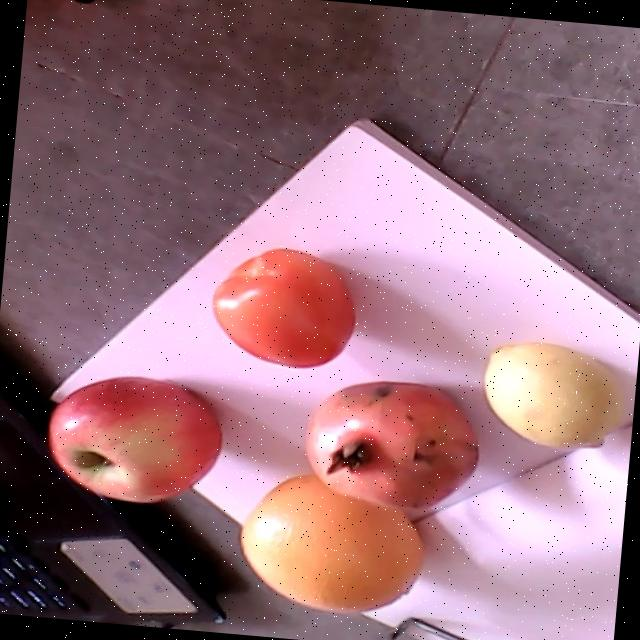apple: (48, 375, 222, 501)
lemon: (483, 341, 621, 449)
orange: (240, 472, 424, 614)
pomegranate: (305, 380, 480, 508)
tomato: (211, 246, 358, 367)
